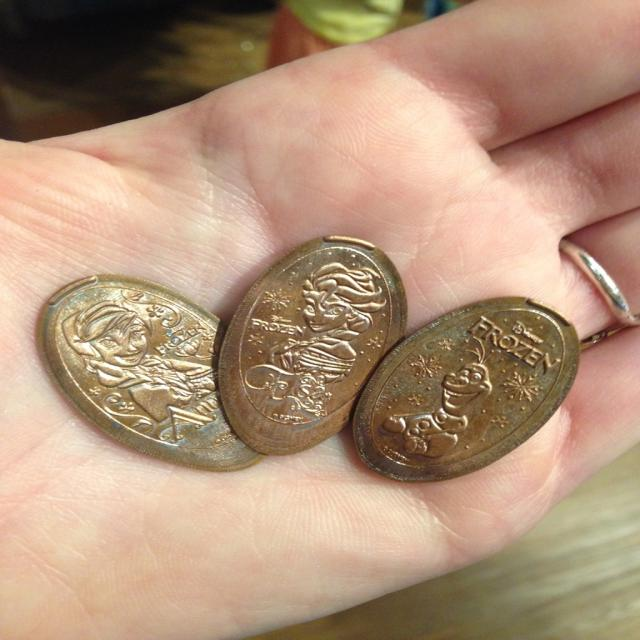Coin: (26, 272, 249, 475), (213, 230, 410, 458), (359, 289, 587, 481)
